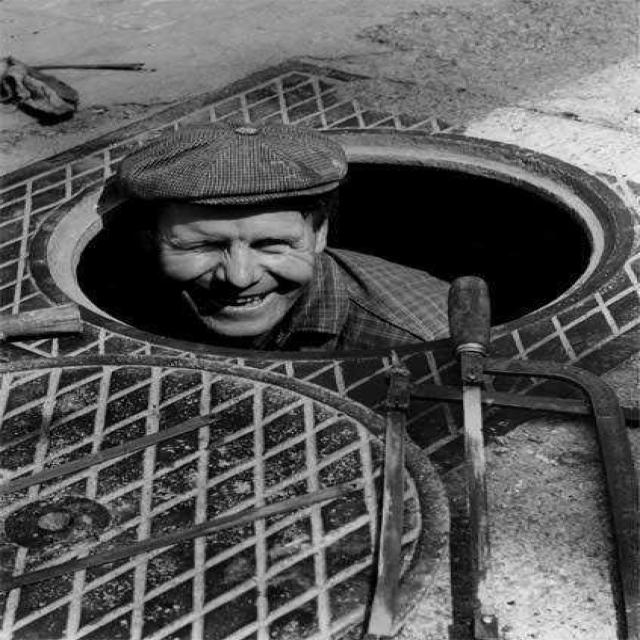manhole: (57, 122, 640, 567)
